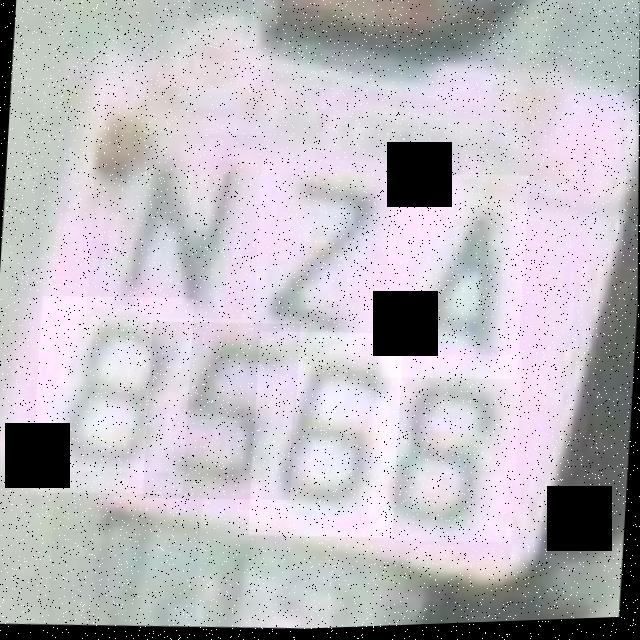5: (143, 319, 301, 506)
6: (249, 329, 405, 545)
7: (48, 467, 205, 633)
8: (32, 292, 195, 500), (368, 352, 523, 551)
A: (382, 172, 529, 387)
N: (87, 128, 265, 326)
Z: (240, 157, 395, 349)
